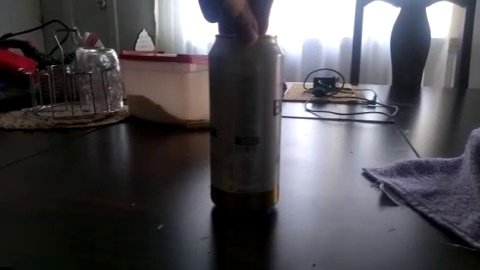bohemia: (196, 57, 268, 188)
